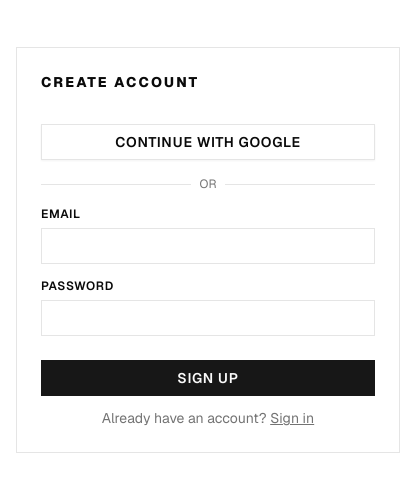
SignupPage › shows error on signup failure
The image size is (417, 501).
Type "test@test.com" into the field labelled "Email" at (208, 246), box x1=41 y1=228 x2=375 y2=264
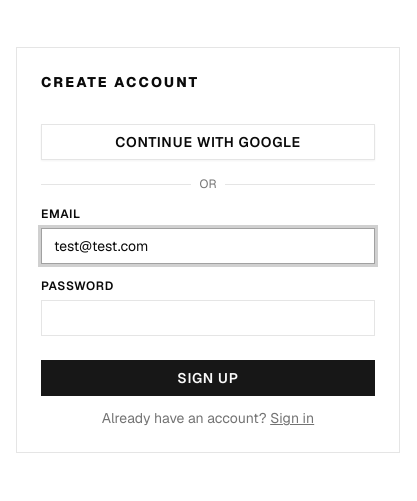
Type "password123" into the password field labelled "Password" at (208, 318), box x1=41 y1=300 x2=375 y2=336
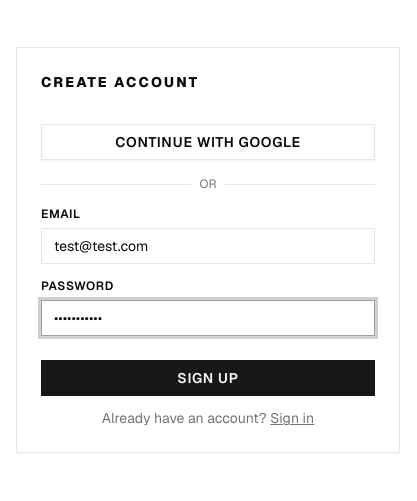
Submit the text "Sign Up"
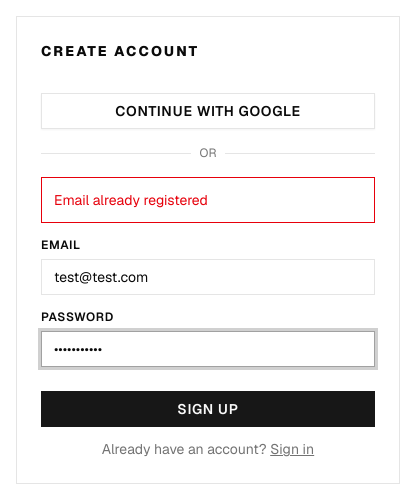
Check: the text "Email already registered" is shown, box x1=41 y1=177 x2=375 y2=223
